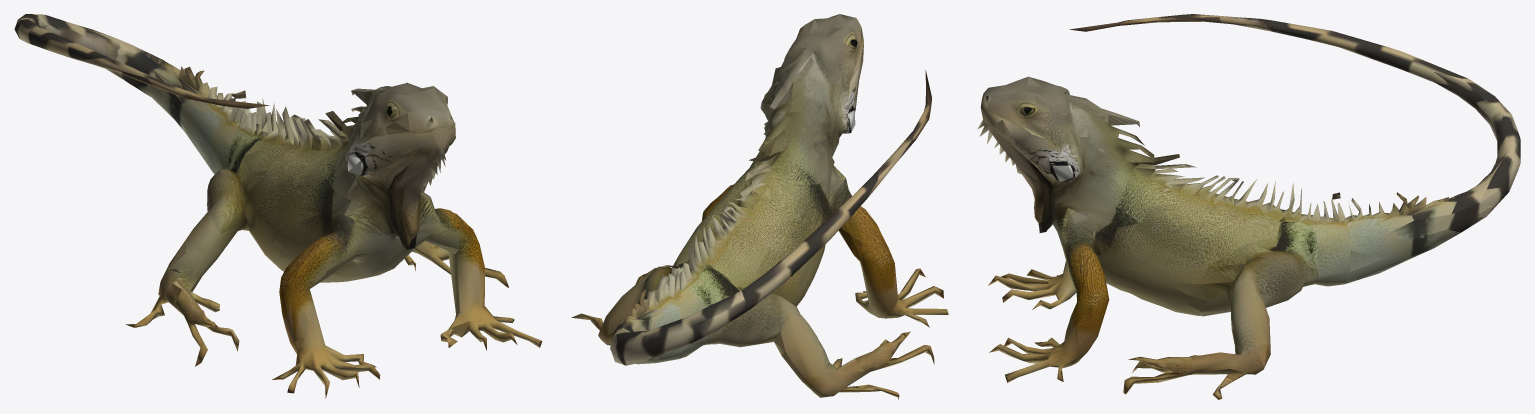
File: iguana.glb
3 views of the same model, side by side, from view 1: azimuth 30°, elevation 25°; view 2: azimuth 150°, elevation 25°; view 3: azimuth 270°, elevation 25° (orthographic). The views are drawn at different scales.
Visible parts, largest first — view 1: tripo_node_2c51586d; view 2: tripo_node_2c51586d; view 3: tripo_node_2c51586d.
Part boxes in pixels (bbox=[...]): tripo_node_2c51586d: bbox=[14, 14, 542, 398]; tripo_node_2c51586d: bbox=[571, 14, 948, 399]; tripo_node_2c51586d: bbox=[977, 14, 1520, 399].
Bounding box in the file's own units: 0.6695 × 0.5073 × 0.9978.
Materials: 1 (1 with a texture image).
